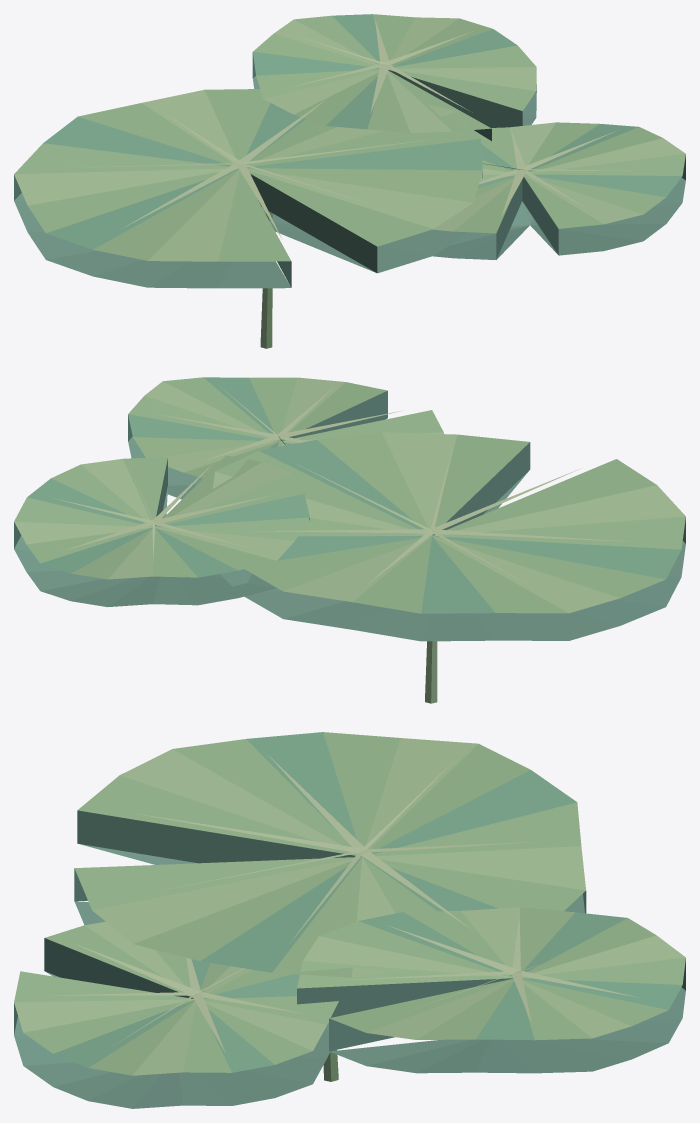
The model's file is lily_pad_cluster.glb.
The picture shows the model from 3 angles, top to bottom: view 1: azimuth 30°, elevation 25°; view 2: azimuth 150°, elevation 25°; view 3: azimuth 270°, elevation 25°; orthographic projection. The views are drawn at different scales.
Parts seen in each view (by area): view 1: Main_leaf, Side_leaf, Little_leaf, Main_edge, Little_edge, Side_edge, Main_veins, Side_veins, Little_veins, Submerged_stalks; view 2: Main_leaf, Side_leaf, Little_leaf, Main_edge, Side_edge, Main_veins, Little_edge, Side_veins, Little_veins, Submerged_stalks; view 3: Main_leaf, Side_leaf, Little_leaf, Side_edge, Little_edge, Main_edge, Main_veins, Side_veins, Little_veins.
Boxes of the visible parts, x1,y1,x2,y2 form: Main_leaf: (14,89,482,261); Side_leaf: (253,14,536,132); Little_leaf: (433,122,685,233); Main_edge: (14,171,482,288); Little_edge: (433,155,685,259); Side_edge: (252,52,536,140); Main_veins: (64,98,431,239); Side_veins: (289,19,472,112); Little_veins: (479,130,630,216); Submerged_stalks: (260,211,272,348); Main_leaf: (212,432,685,613); Side_leaf: (14,455,309,579); Little_leaf: (128,377,443,478); Main_edge: (220,442,685,641); Side_edge: (14,458,309,607); Main_veins: (251,451,633,591); Little_edge: (128,390,387,499); Side_veins: (51,464,275,561); Little_veins: (158,386,402,461); Submerged_stalks: (425,641,437,703); Main_leaf: (74,732,585,977); Side_leaf: (297,907,685,1040); Little_leaf: (14,921,338,1075); Side_edge: (297,959,685,1073); Little_edge: (14,938,329,1108); Main_edge: (74,810,586,925); Main_veins: (130,754,539,942); Side_veins: (340,914,640,1022); Little_veins: (49,943,301,1052).
Bounding box in the file's own units: 2.1 × 0.6632 × 1.74.
